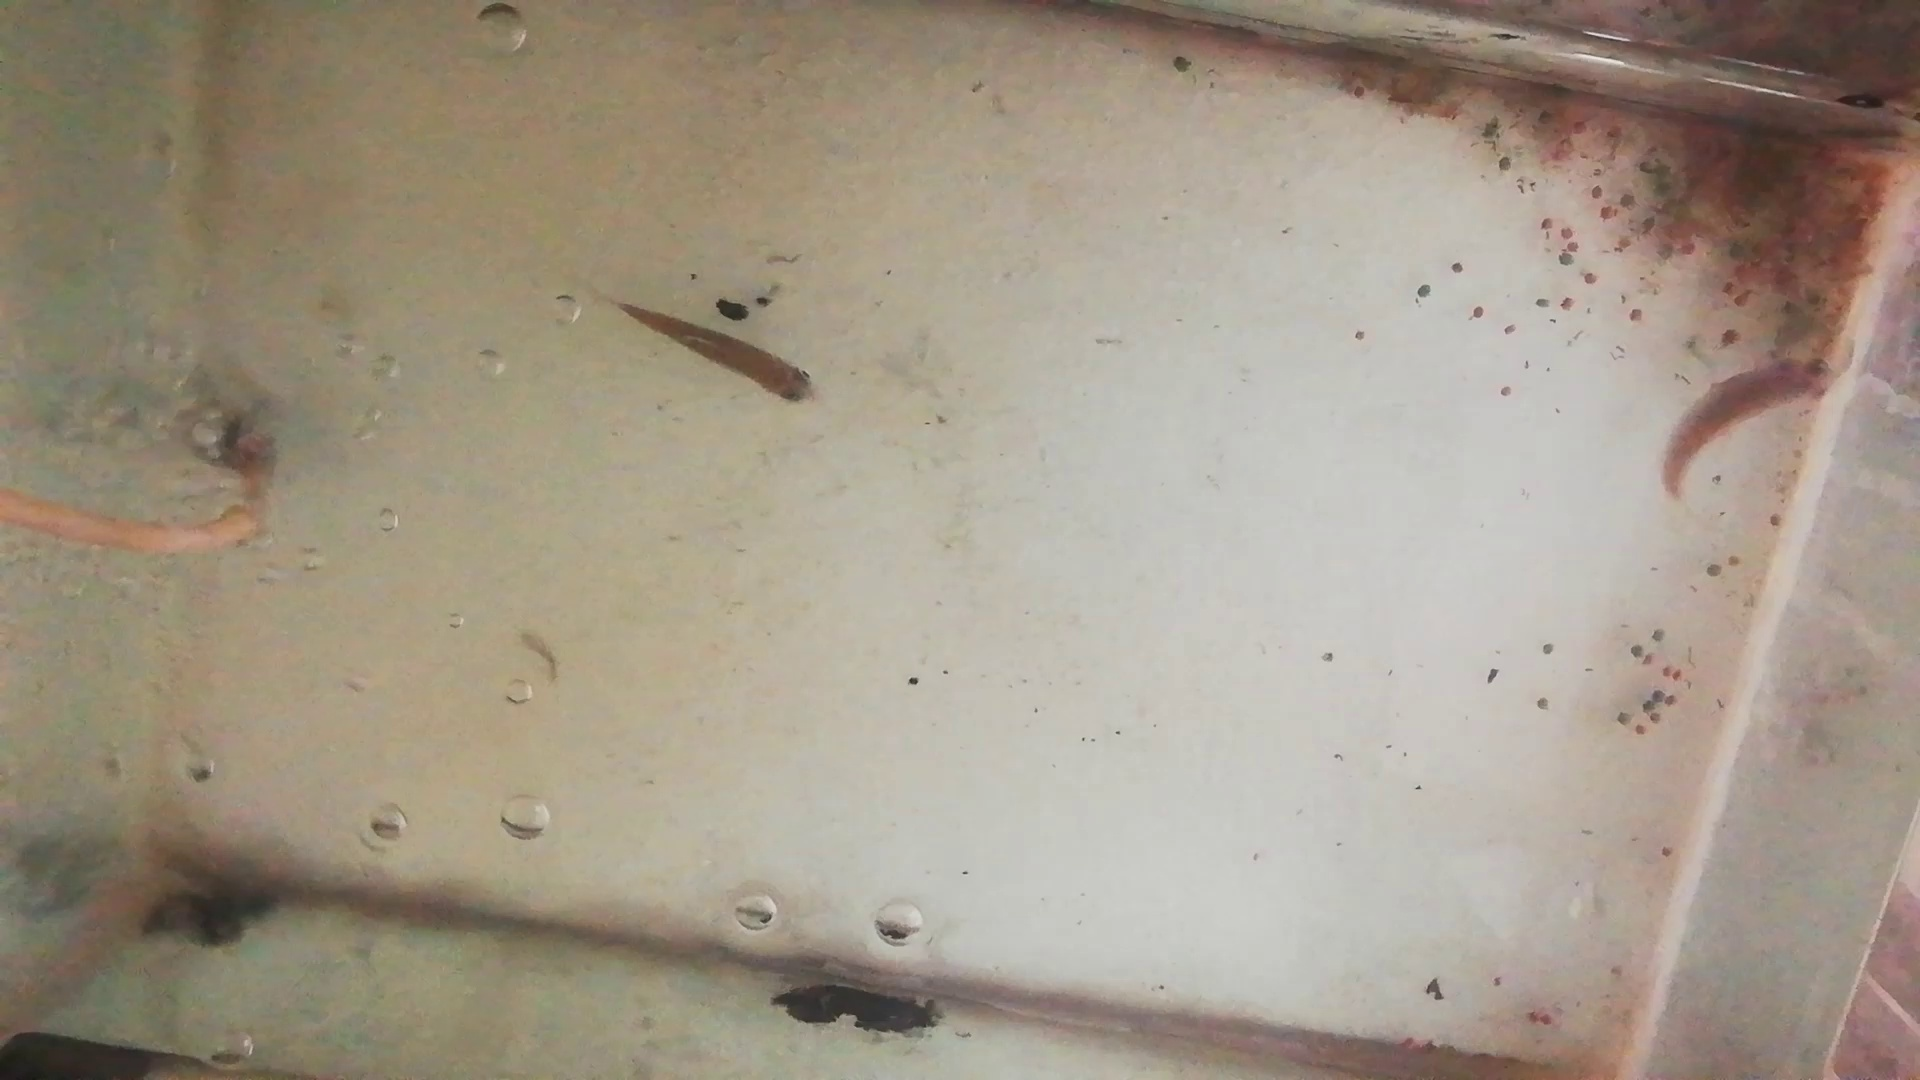fish: (1658, 357, 1838, 497), (611, 303, 818, 409)
